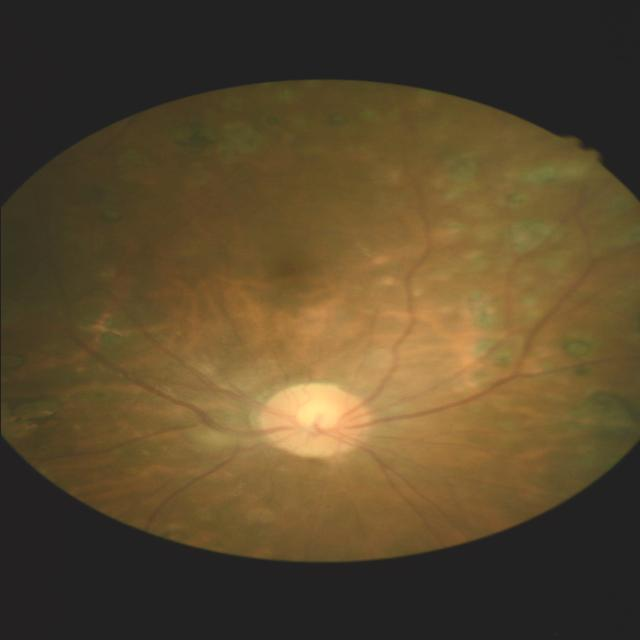cup: (290, 398, 340, 434)
disk: (256, 381, 372, 458)
